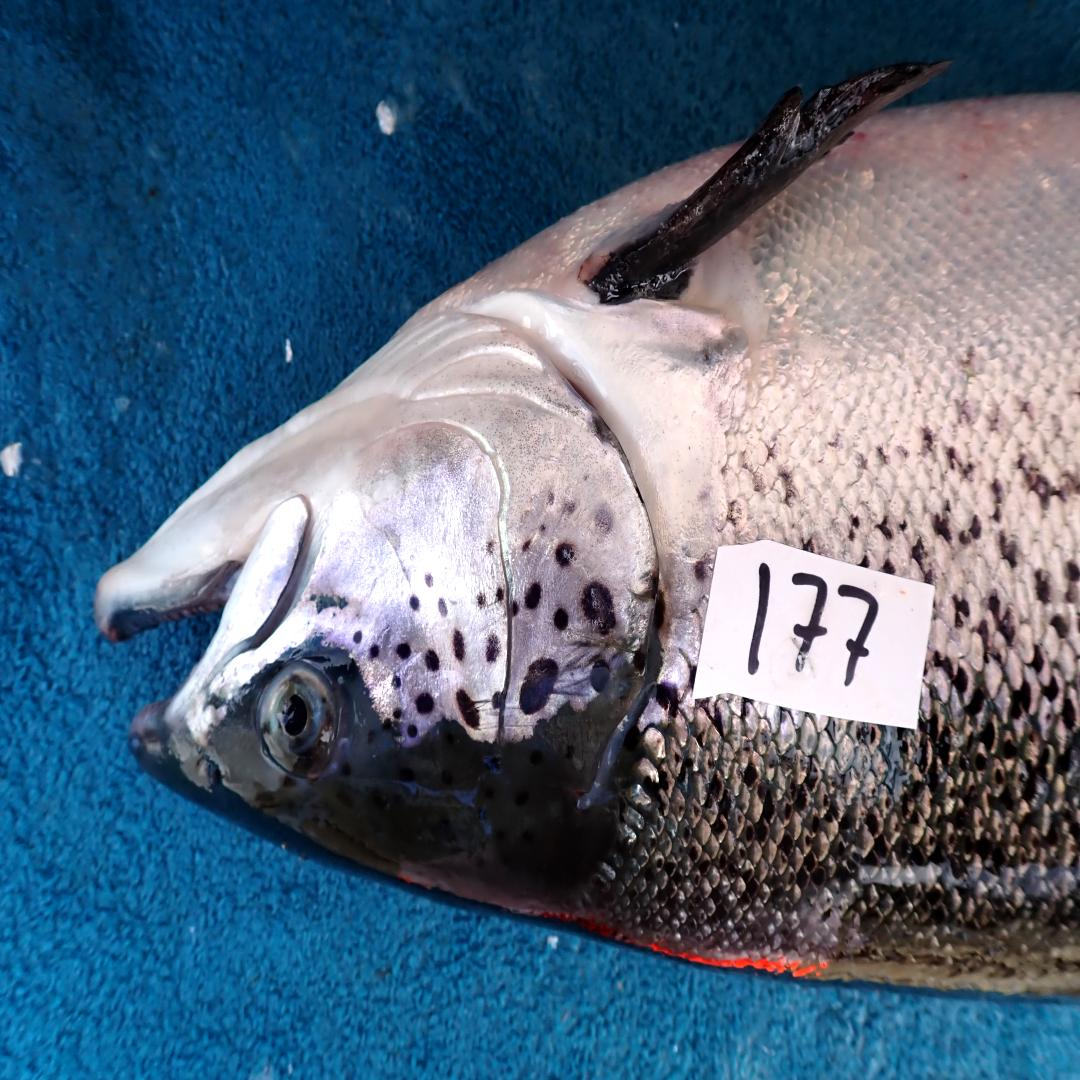roi: (304, 304, 659, 744)
